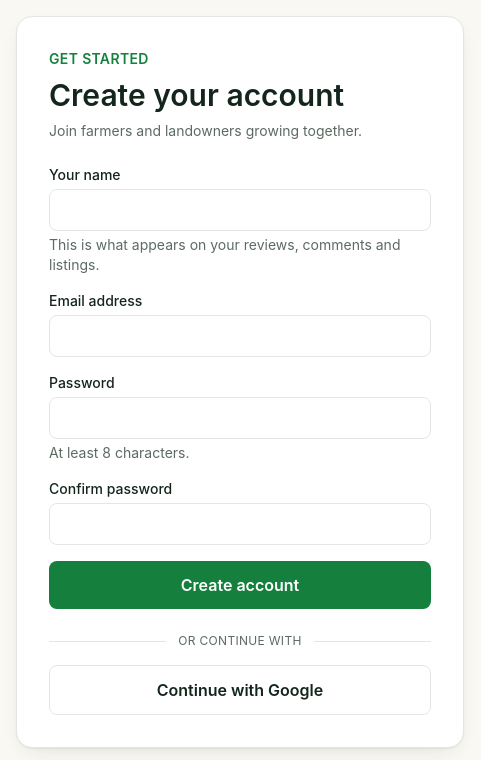
Register › validates a name that is too short before signing up
Type "A" into the field labelled "Your name" at (240, 210), box [49,189,431,231]
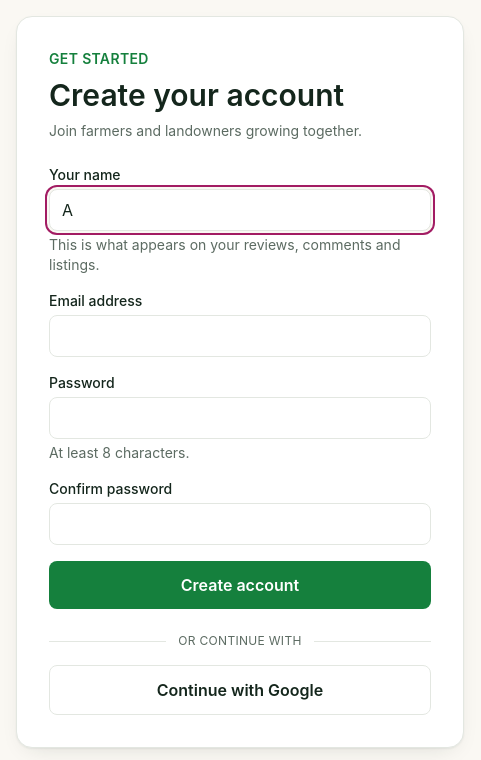
Type "amina@example.com" into the field labelled "Email address" at (240, 336), box [49,315,431,357]
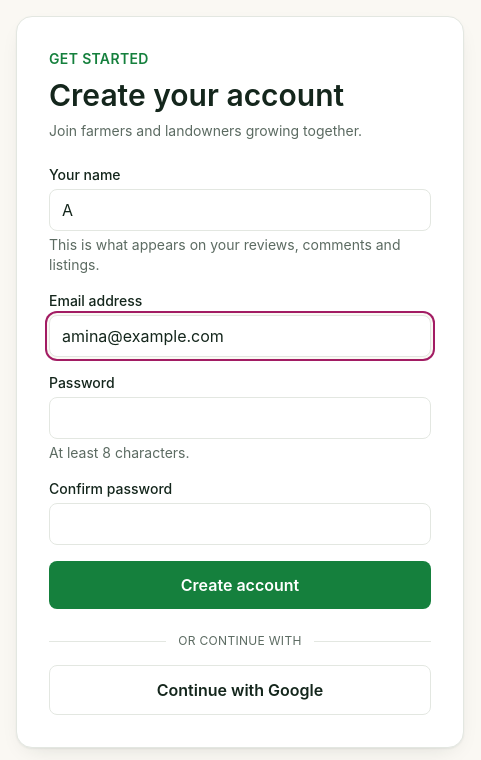
Type "secure-pass" into the password field labelled "Password" at (240, 418), box [49,397,431,439]
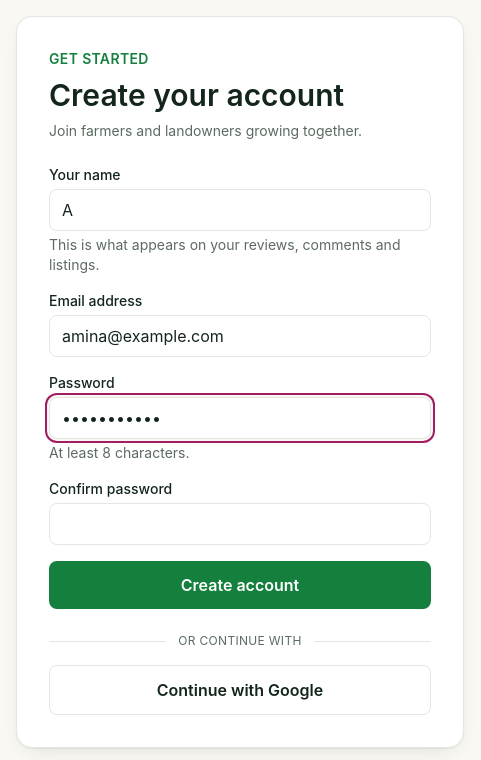
Type "secure-pass" into the password field labelled "Confirm password" at (240, 524), box [49,503,431,545]
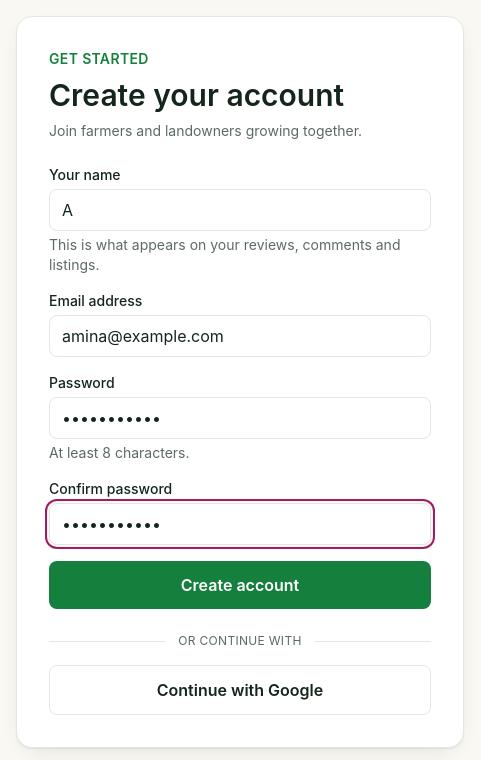
Click the button "Create account" at (240, 585), box [49,561,431,609]
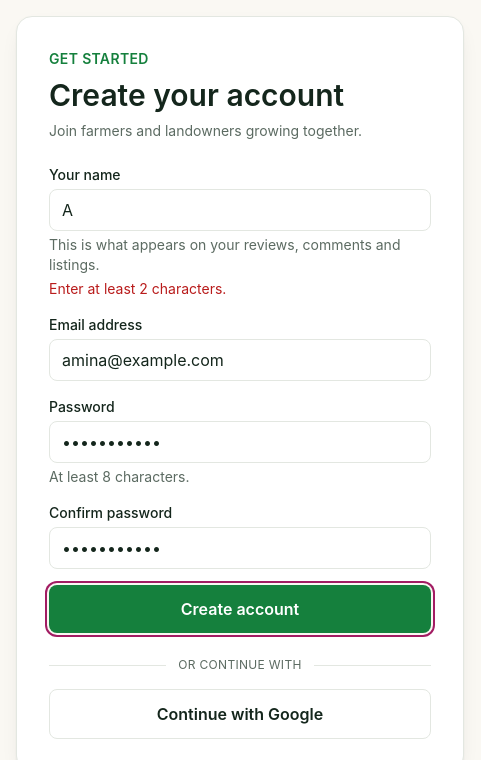
Check: the text "Enter at least 2 characters." is shown, box [49,280,226,297]
